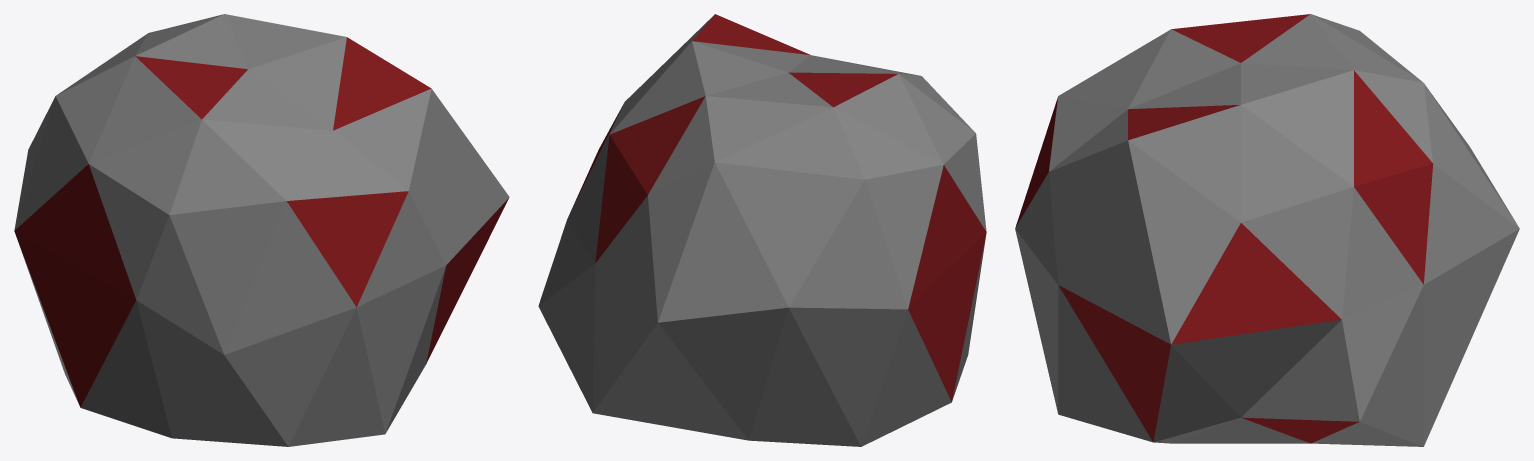
File: Food  Node.fbx
3 renders of one model, left to right at view 1: azimuth 30°, elevation 25°; view 2: azimuth 150°, elevation 25°; view 3: azimuth 270°, elevation 25°, orthographic. The views are drawn at different scales.
Visible parts, largest first — view 1: Icosphere; view 2: Icosphere; view 3: Icosphere.
Boxes of the visible parts, box(x1,y1,x2,y2) form: Icosphere: box(14, 14, 509, 446); Icosphere: box(538, 14, 986, 446); Icosphere: box(1015, 14, 1519, 446).
Size of the model in its own units: 217 by 170 by 223.
Materials: 1 (1 with a texture image).
